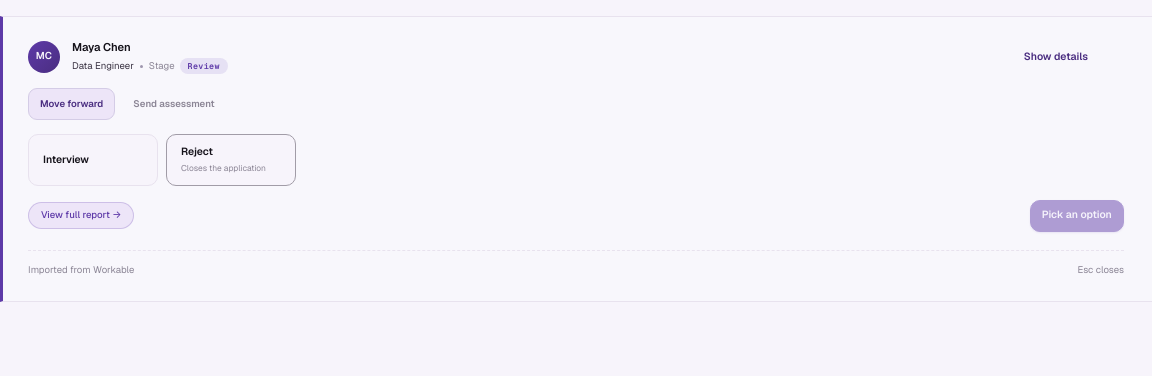
CandidateTriageDrawer shared motion › warns that an ATS move does not move another role locally
Click the button "Interview" at {"x": 93, "y": 160}, box [28,134,158,186]
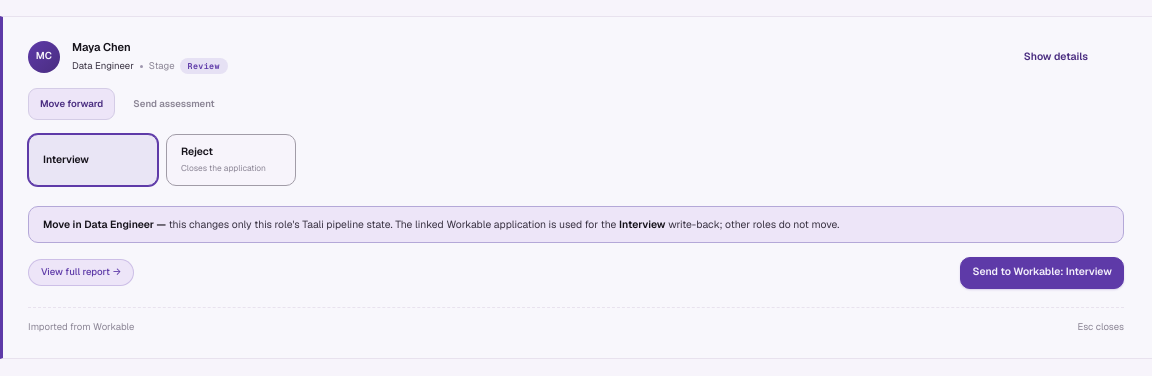
Now the message shows "Move in Data Engineer", box [28,206,1124,243]
